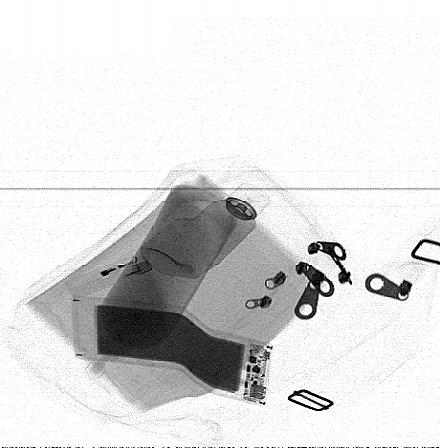Lighter: (64, 251, 156, 300)
Powerbank: (71, 296, 273, 409)
Sprayer: (141, 182, 272, 280)
